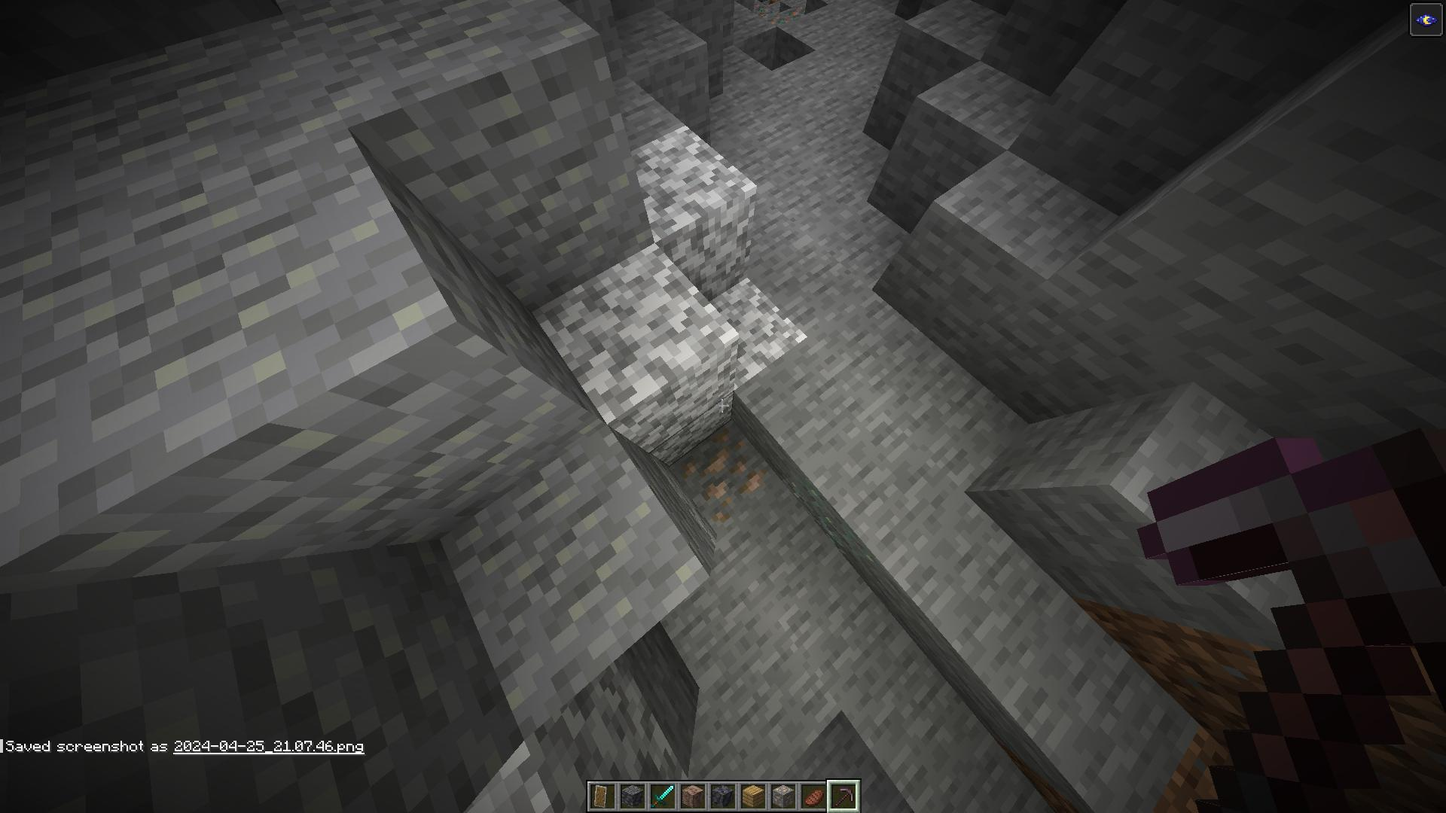iron ore: (674, 425, 776, 528)
